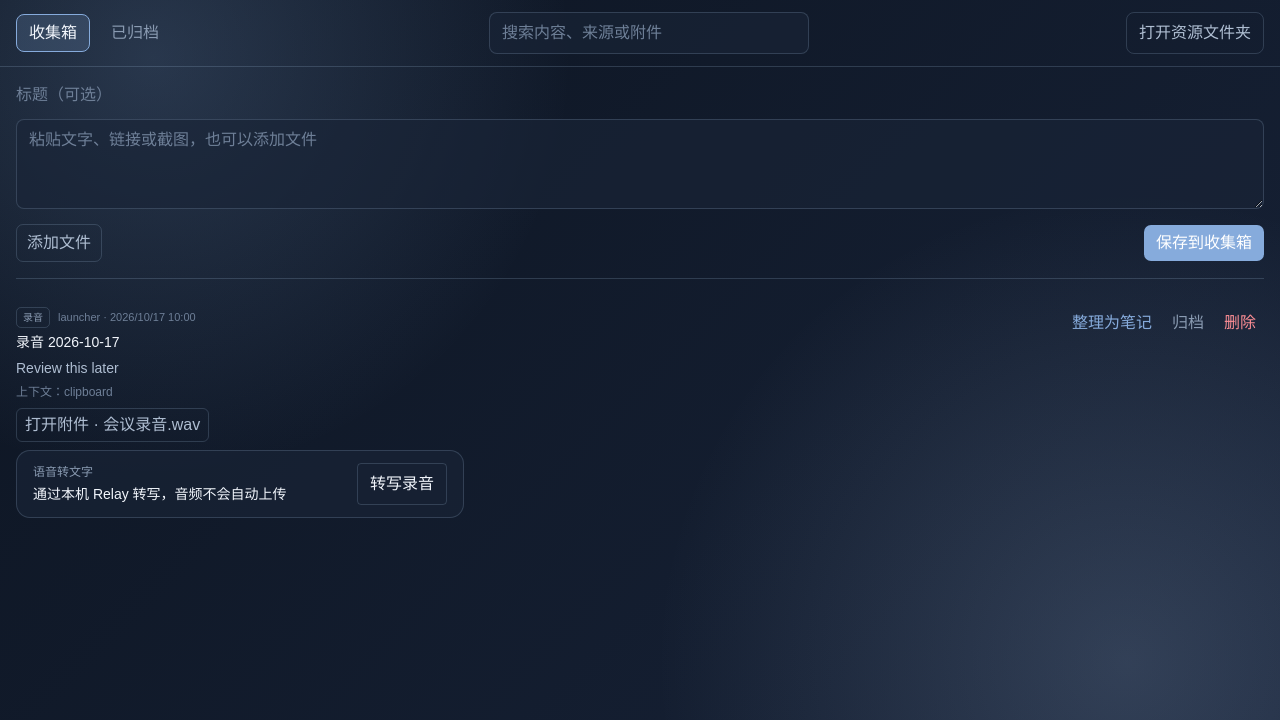
Test: InboxPanel › transcribes a captured recording after explicit confirmation
The image size is (1280, 720).
The control stays disabled until the saved model preference loads.
Click the button "转写录音".
click(402, 484)  # box left=357, top=463, right=447, bottom=505
(page scrolled)
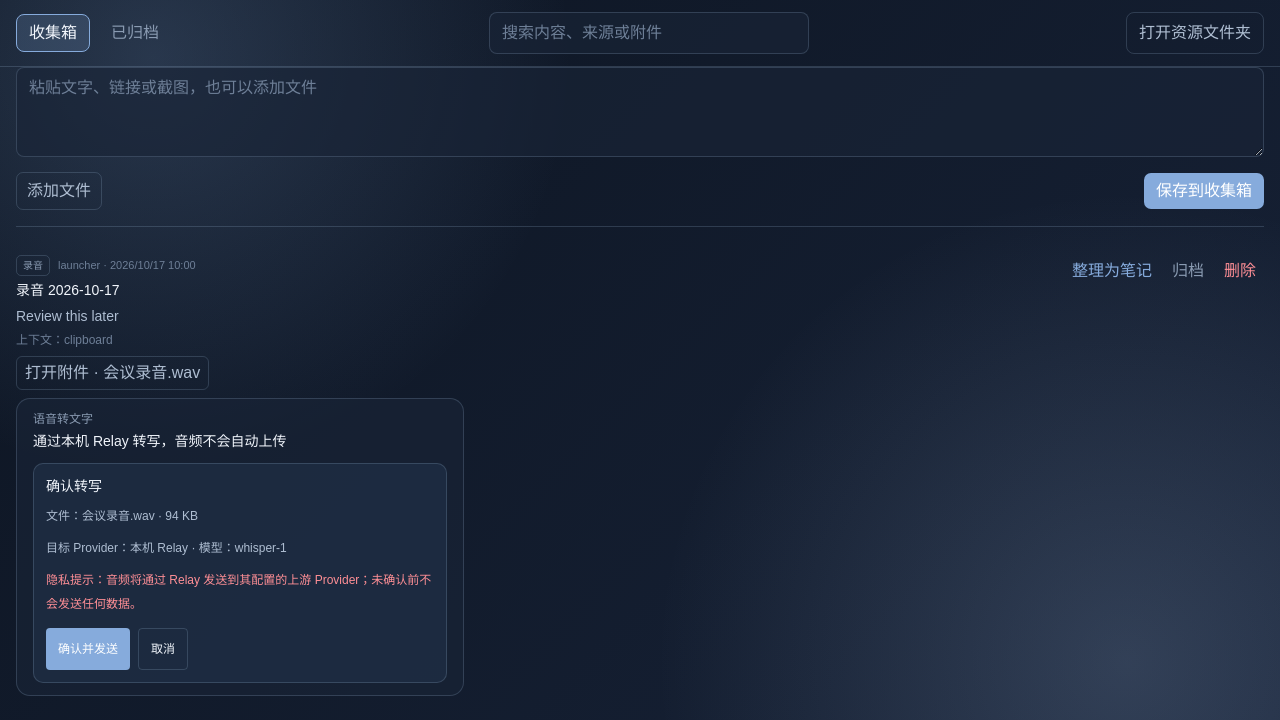
Expected: the button "打开附件 · 会议录音.wav" is shown, left=16, top=356, right=209, bottom=390
Expected: the text "隐私提示：音频将通过 Relay 发送到其配置的上游 Provider；未确认前不会发送任何数据。" is shown, left=46, top=568, right=434, bottom=616
Click the button "确认并发送".
click(88, 649)  # box left=46, top=628, right=130, bottom=670
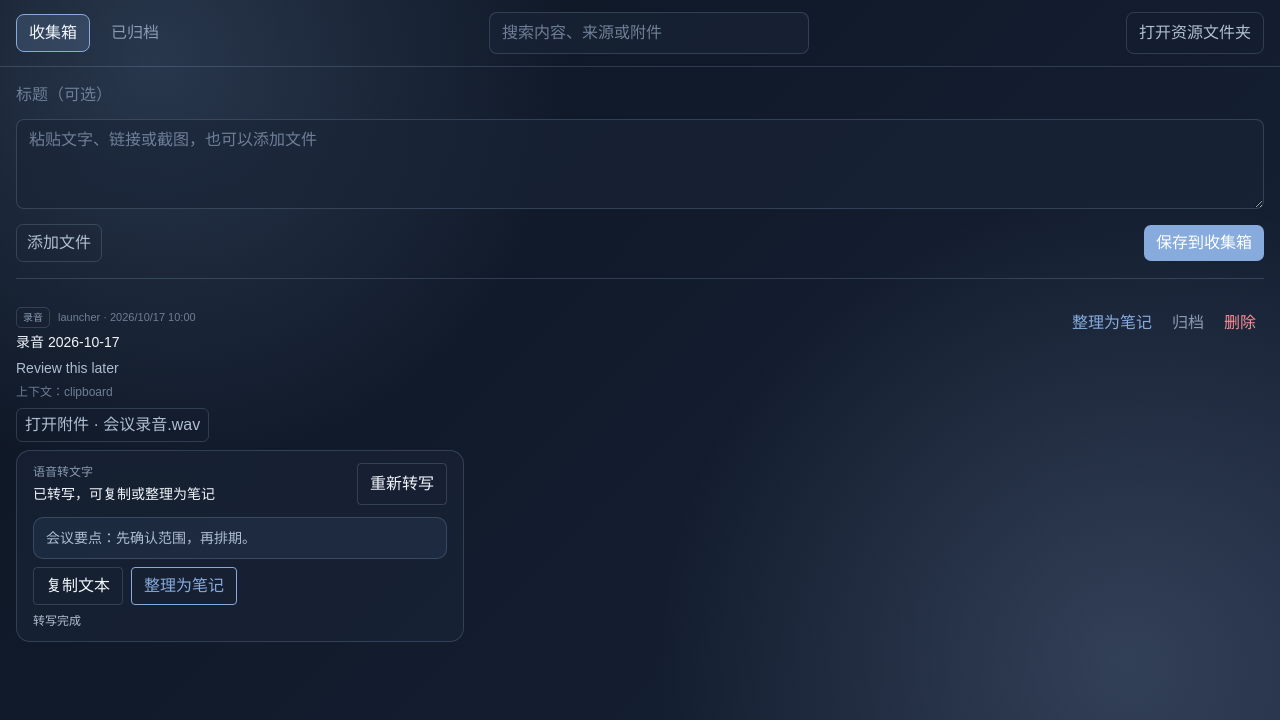
Expected: the text "会议要点：先确认范围，再排期。" is shown, left=33, top=517, right=447, bottom=559
Click the button "复制文本".
click(78, 586)  # box left=33, top=567, right=123, bottom=605
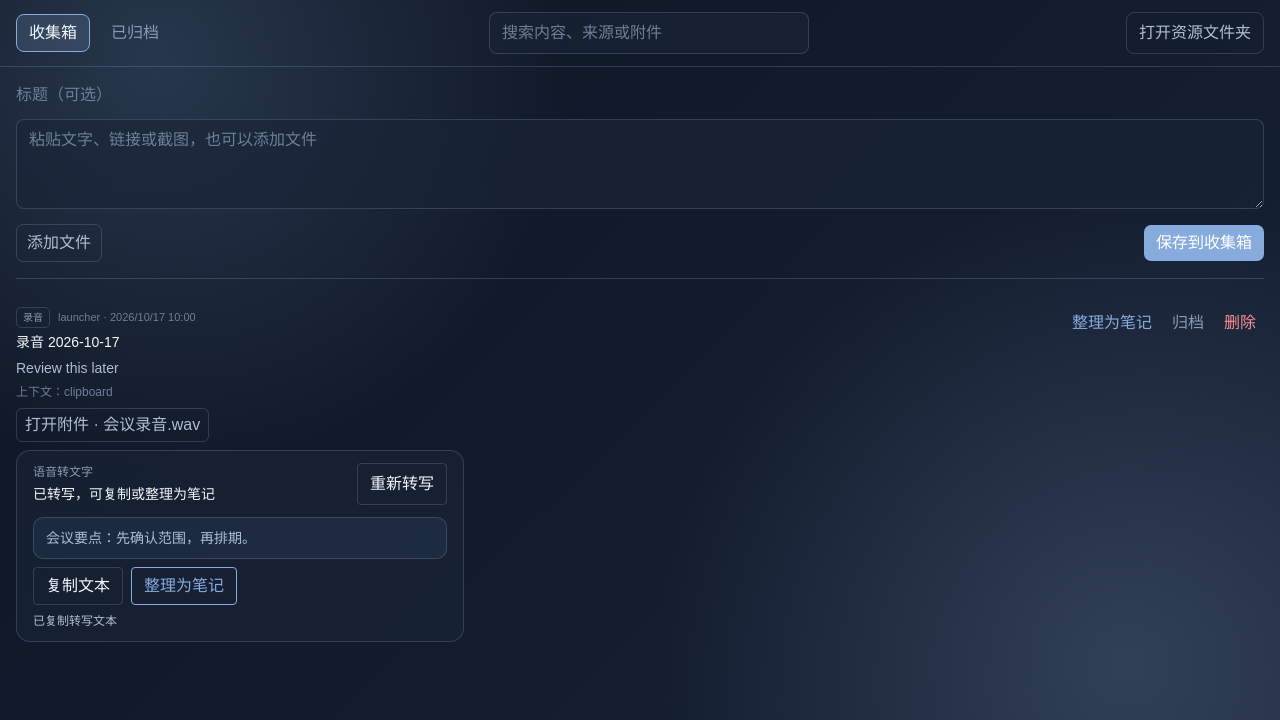
Expected: the message reads "已复制转写文本", left=33, top=614, right=117, bottom=628
